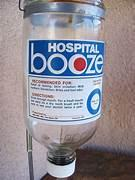Iv_Bottle: (24, 0, 104, 177)
